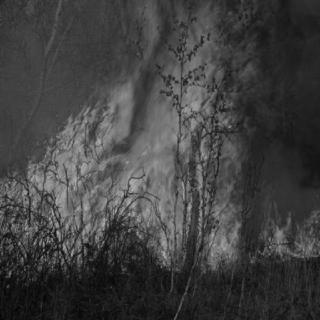Fire: (1, 92, 318, 268)
